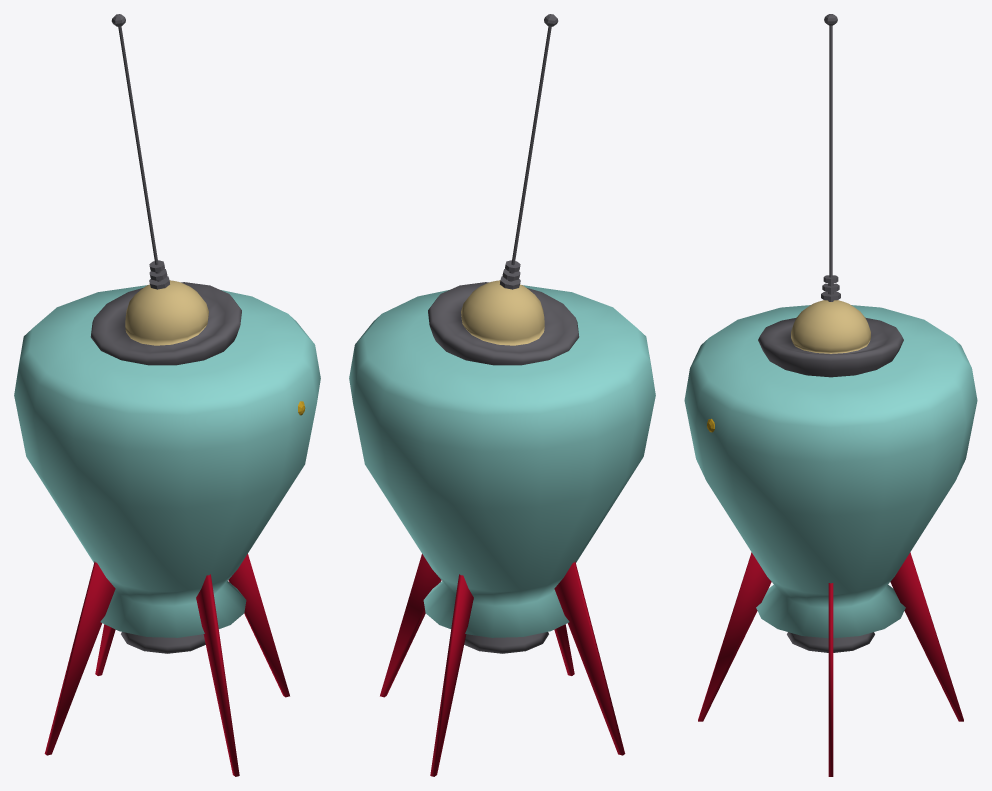
The model's file is Nave8EAAL_LowPoly.glb.
3 renders of one model, left to right at view 1: azimuth 30°, elevation 25°; view 2: azimuth 150°, elevation 25°; view 3: azimuth 270°, elevation 25°, orthographic. The views are drawn at different scales.
Visible parts, largest first — view 1: Sphere; view 2: Sphere; view 3: Sphere.
Part boxes in pixels (box(x1,y1,x2,y2)): Sphere: box(14, 14, 320, 776); Sphere: box(349, 14, 655, 776); Sphere: box(684, 14, 977, 776).
Size of the model in its own units: 2.02 by 5.2 by 2.02.
